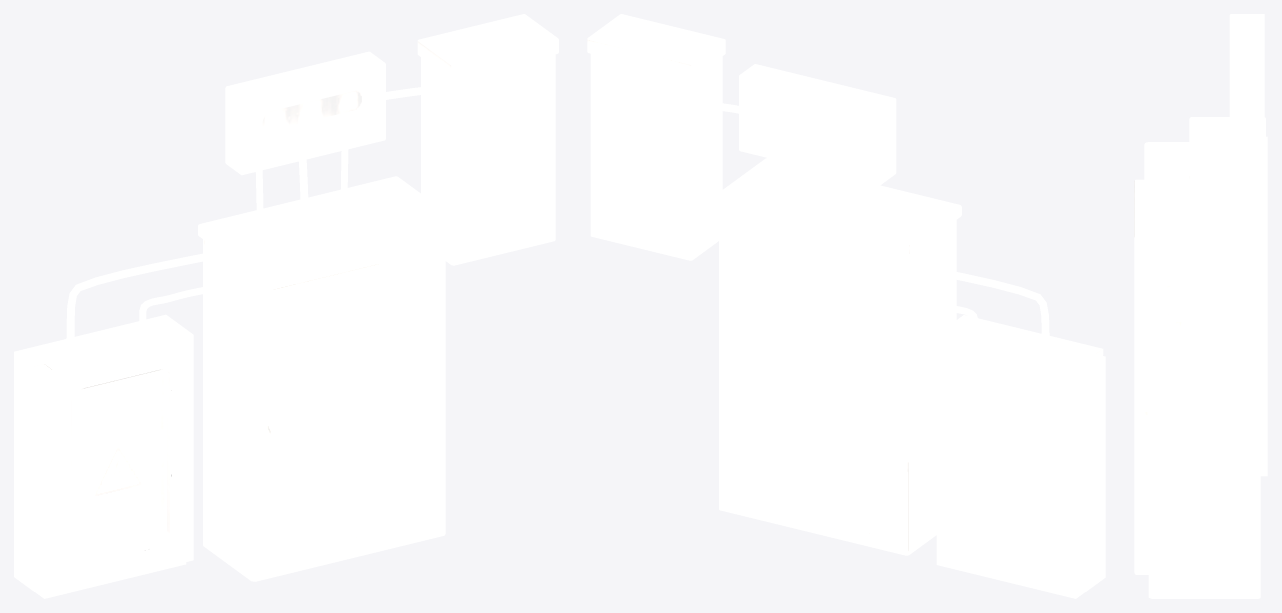
The model's file is E_ELC_Sample_LOD0.fbx.
3 renders of one model, left to right at view 1: azimuth 30°, elevation 25°; view 2: azimuth 150°, elevation 25°; view 3: azimuth 270°, elevation 25°, orthographic. The views are drawn at different scales.
Parts seen in each view (by area): view 1: E_ELC_Sample_LOD0; view 2: E_ELC_Sample_LOD0; view 3: E_ELC_Sample_LOD0.
Part boxes in pixels (left/top/right/bottom): E_ELC_Sample_LOD0: left=14, top=14, right=558, bottom=598; E_ELC_Sample_LOD0: left=587, top=14, right=1105, bottom=598; E_ELC_Sample_LOD0: left=1134, top=14, right=1267, bottom=598.
Size of what is drawn, in the model's own units: 73.18 by 61.83 by 15.06.
Materials: 1 (1 with a texture image).
